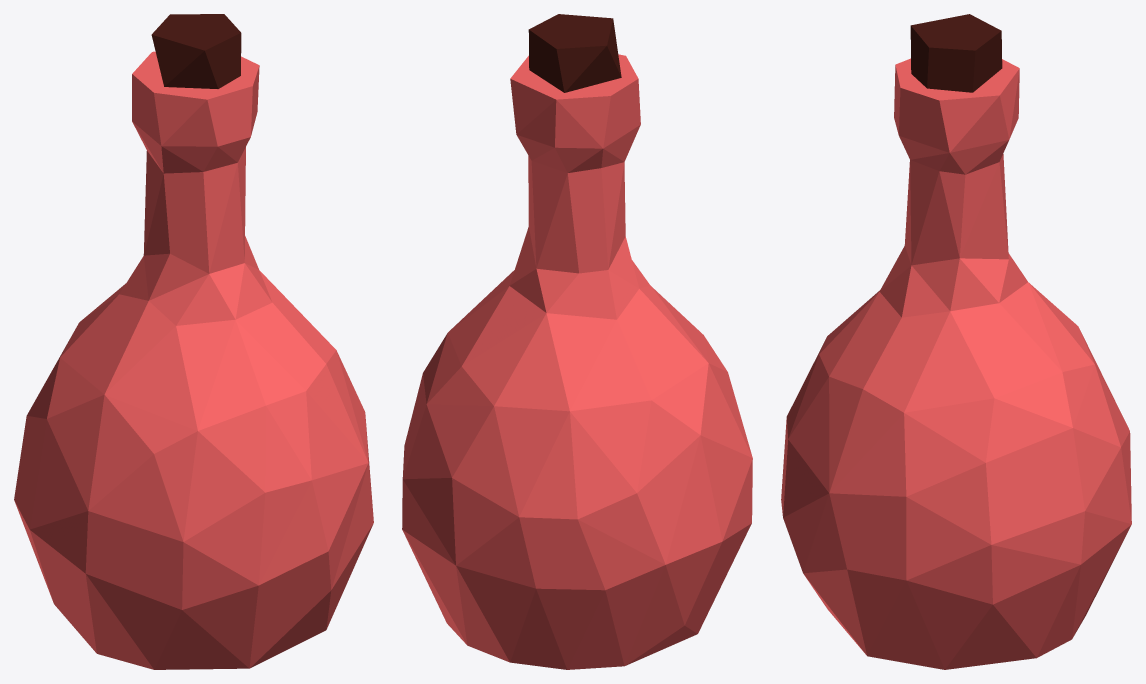
Rendered from Bottle_4.fbx.
3 renders of one model, left to right at view 1: azimuth 30°, elevation 25°; view 2: azimuth 150°, elevation 25°; view 3: azimuth 270°, elevation 25°, orthographic.
Visible parts, largest first — view 1: Bottle #4; view 2: Bottle #4; view 3: Bottle #4.
Part boxes in pixels (box(x1,y1,x2,y2)): Bottle #4: box(14, 14, 373, 669); Bottle #4: box(402, 14, 752, 669); Bottle #4: box(781, 14, 1131, 669).
Size of the model in its own units: 11.27 by 20.29 by 11.07.
